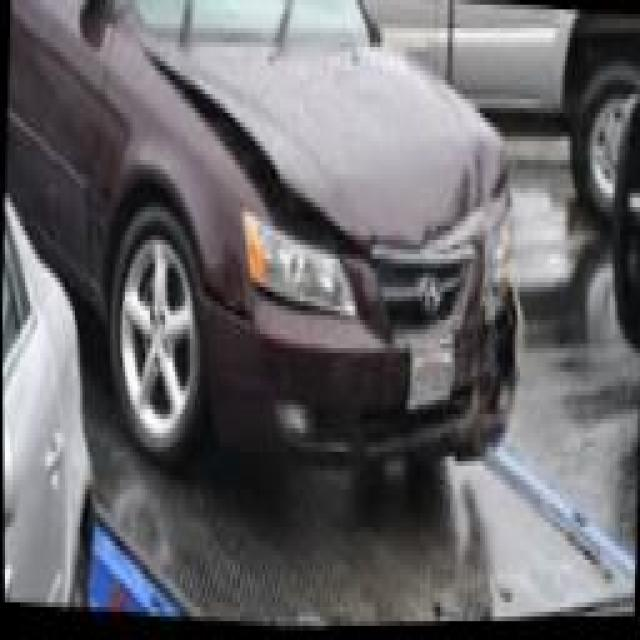Bonnet: (142, 37, 513, 270)
Bumper: (395, 282, 524, 458)
